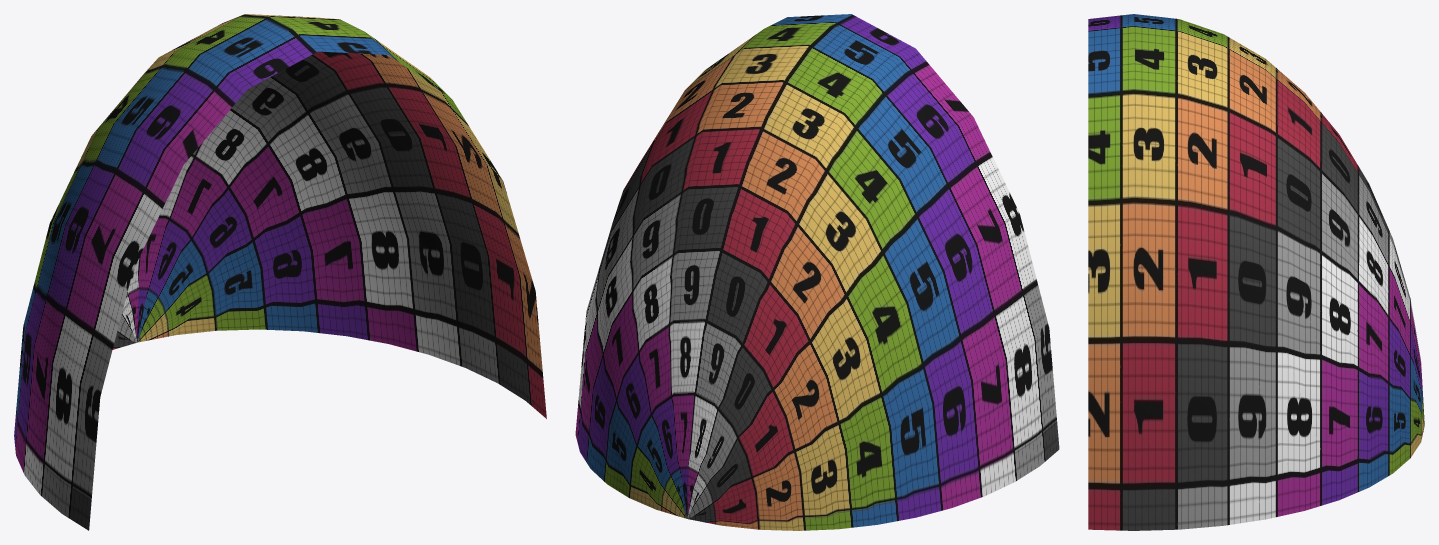
Rendered from ArenaWalls.fbx.
3 renders of one model, left to right at view 1: azimuth 30°, elevation 25°; view 2: azimuth 150°, elevation 25°; view 3: azimuth 270°, elevation 25°, orthographic. The views are drawn at different scales.
Parts seen in each view (by area): view 1: Grotte; view 2: Grotte; view 3: Grotte.
Boxes of the visible parts, x1=… form: Grotte: x1=14, y1=14, x2=546, y2=530; Grotte: x1=575, y1=14, x2=1059, y2=530; Grotte: x1=1088, y1=14, x2=1424, y2=530.
Size of the model in its own units: 333 by 295 by 225.
1 material, 1 textured.
